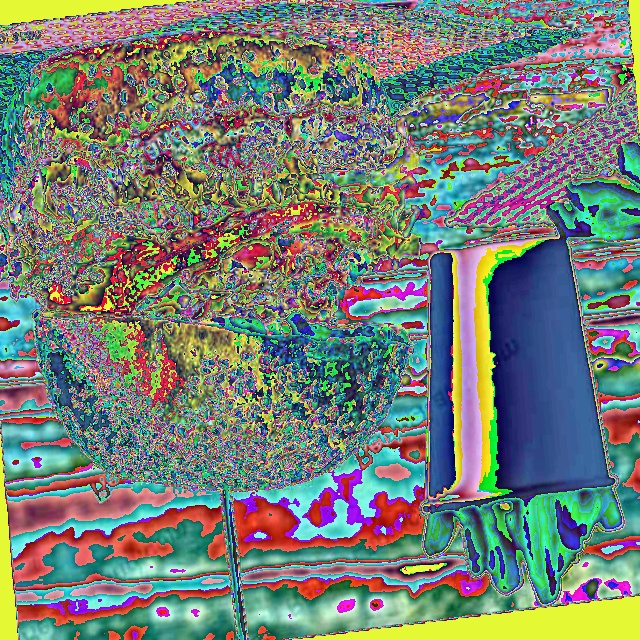background: (207, 120, 627, 607), (0, 33, 424, 494), (93, 107, 639, 245)
